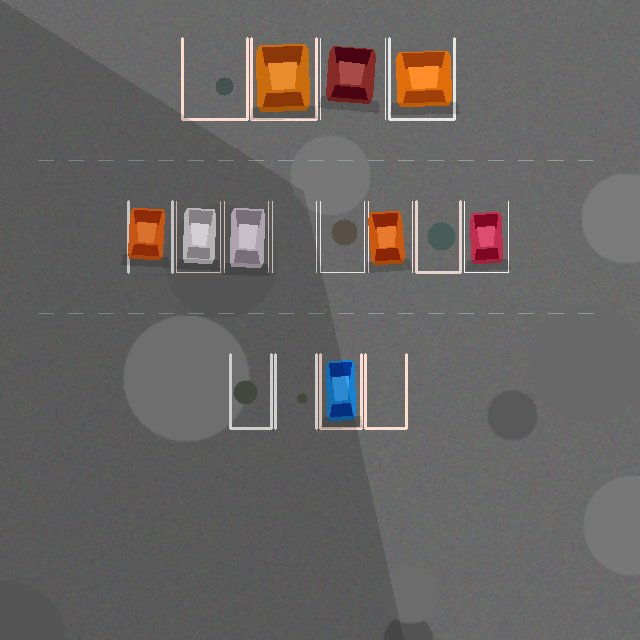space-empty: (182, 38, 247, 119), (272, 201, 316, 272), (320, 201, 364, 272), (416, 201, 460, 272), (230, 354, 271, 428), (275, 354, 316, 428), (365, 354, 406, 428)
space-occupied: (251, 38, 316, 119), (320, 38, 385, 119), (389, 38, 454, 119), (128, 201, 172, 272), (176, 201, 220, 272), (224, 201, 268, 272), (368, 201, 412, 272), (464, 201, 508, 272), (320, 354, 361, 428)
